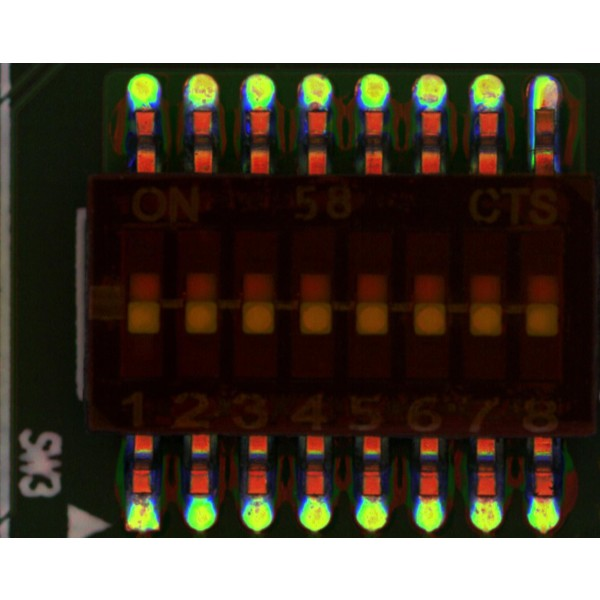Bad_podu: (538, 97, 554, 119)
Bad_qiaojiao: (529, 111, 537, 168)
